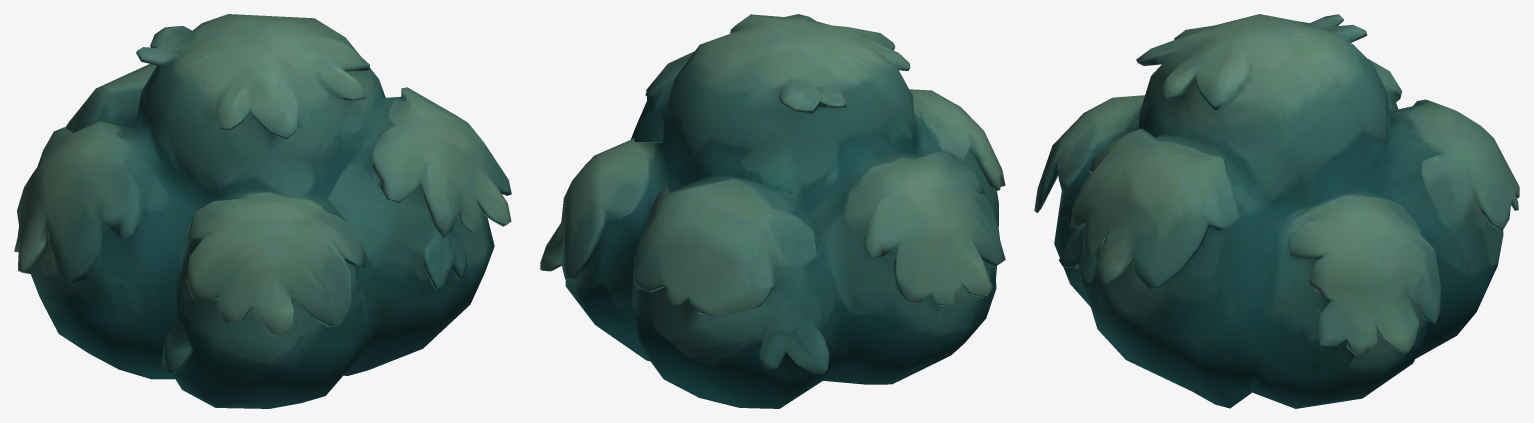
File: bush.glb
3 views of the same model, side by side, from view 1: azimuth 30°, elevation 25°; view 2: azimuth 150°, elevation 25°; view 3: azimuth 270°, elevation 25° (orthographic). The views are drawn at different scales.
Bounding box in the file's own units: 0.9585 × 0.7304 × 0.9576.
Materials: 1 (1 with a texture image).
